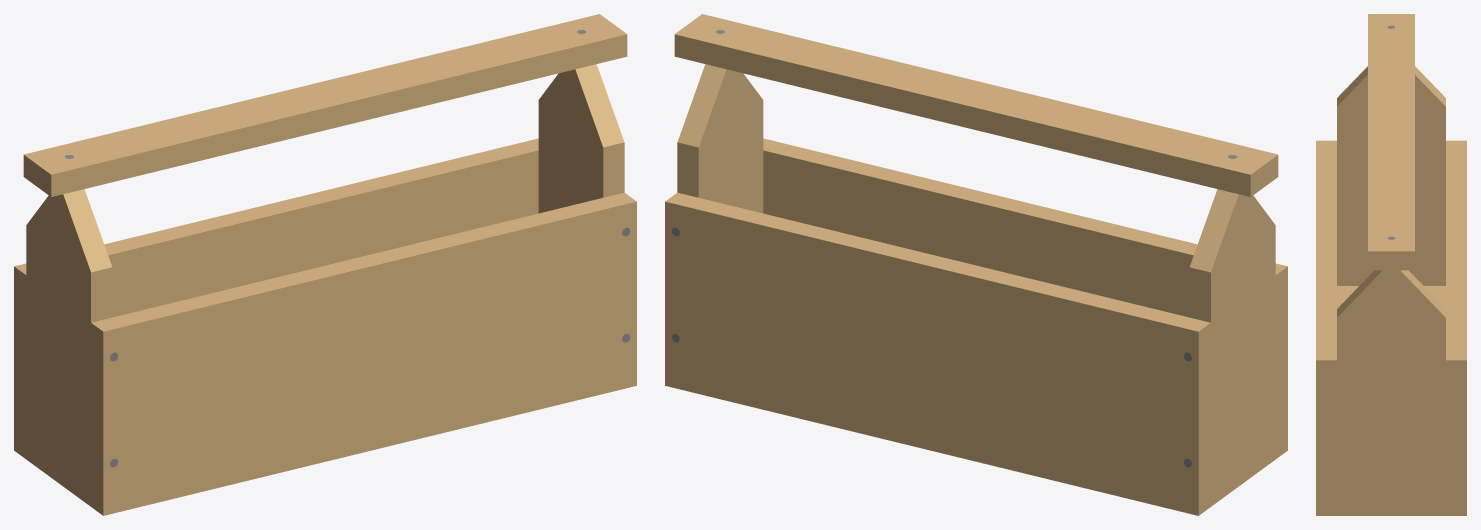
The picture shows the model from 3 angles, left to right: view 1: azimuth 30°, elevation 25°; view 2: azimuth 150°, elevation 25°; view 3: azimuth 270°, elevation 25°; orthographic projection. The views are drawn at different scales.
Visible parts, largest first — view 1: side_1, side_2, handle, end_1, bottom, end_2; view 2: side_2, side_1, handle, end_1, bottom, end_2; view 3: end_2, end_1, handle, side_1, side_2, bottom.
Part boxes in pixels (x1,y1,x2,y2): side_1: (91, 192, 636, 493); side_2: (14, 138, 538, 436); handle: (23, 14, 627, 196); end_1: (26, 189, 112, 484); bottom: (14, 363, 636, 515); end_2: (538, 64, 624, 213); side_2: (665, 192, 1210, 493); side_1: (763, 138, 1287, 436); handle: (674, 14, 1278, 196); end_1: (1189, 189, 1275, 484); bottom: (665, 363, 1287, 515); end_2: (677, 64, 763, 213); end_2: (1337, 270, 1445, 496); end_1: (1337, 66, 1445, 285); handle: (1368, 14, 1414, 270); side_1: (1316, 140, 1336, 496); side_2: (1446, 140, 1466, 496); bottom: (1316, 286, 1466, 515).
Bounding box in the file's own units: 540 × 290 × 145.
